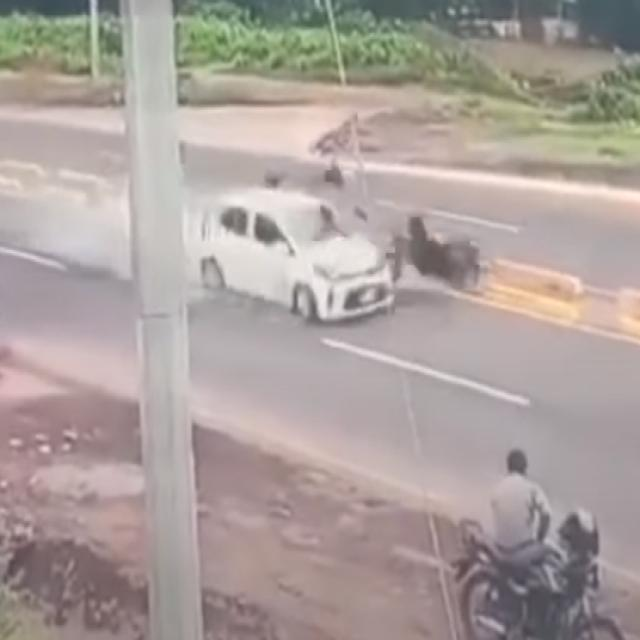accident: (188, 162, 484, 330)
